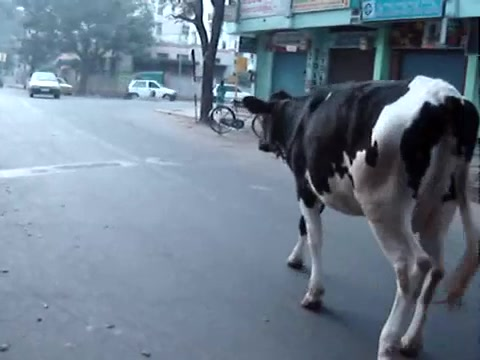cow: (244, 77, 480, 360)
